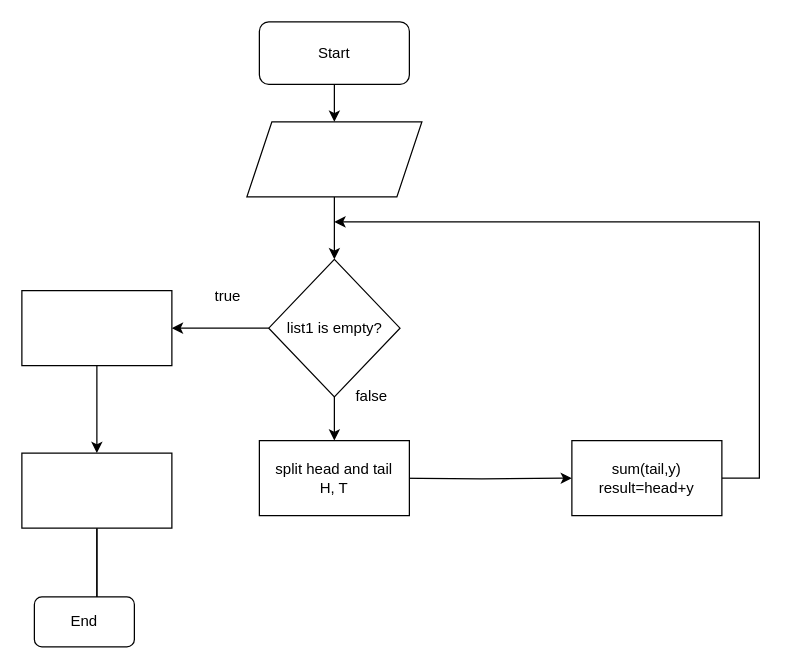
The diagram is 791 pixels wide and 669 high, and some of its shapes have lost their labels. The shapes that lost their labels are listed below. From the top down, each one's centre as x and y in pixels, then its label:
(x=334, y=159): goal sum(list1,x)
(x=96, y=327): return 0 result=total(heads)
(x=96, y=490): display result
